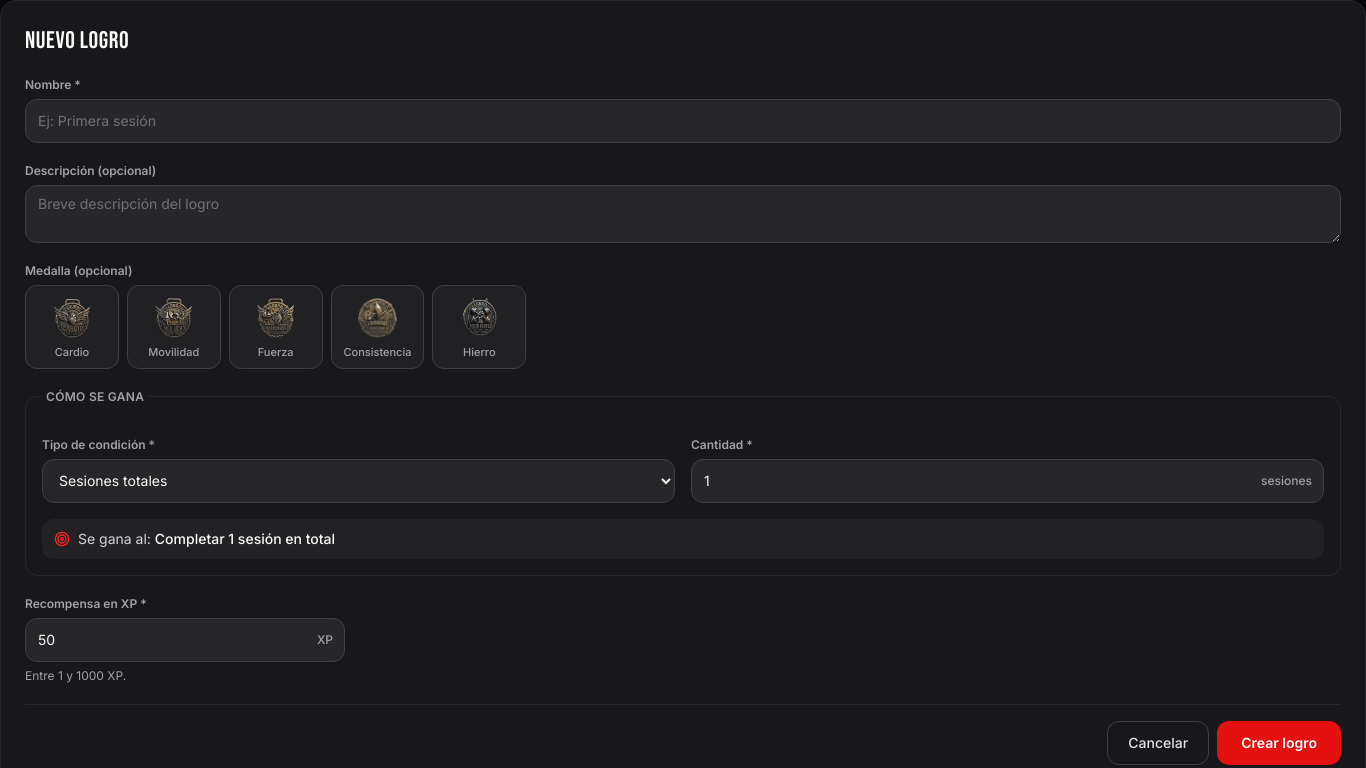
Test: AchievementForm › validation messages › explains an out-of-range XP reward in Spanish without leaking the field key
Type "Logro" into the field labelled "Nombre *" at (683,121), box [25,99,1341,143]
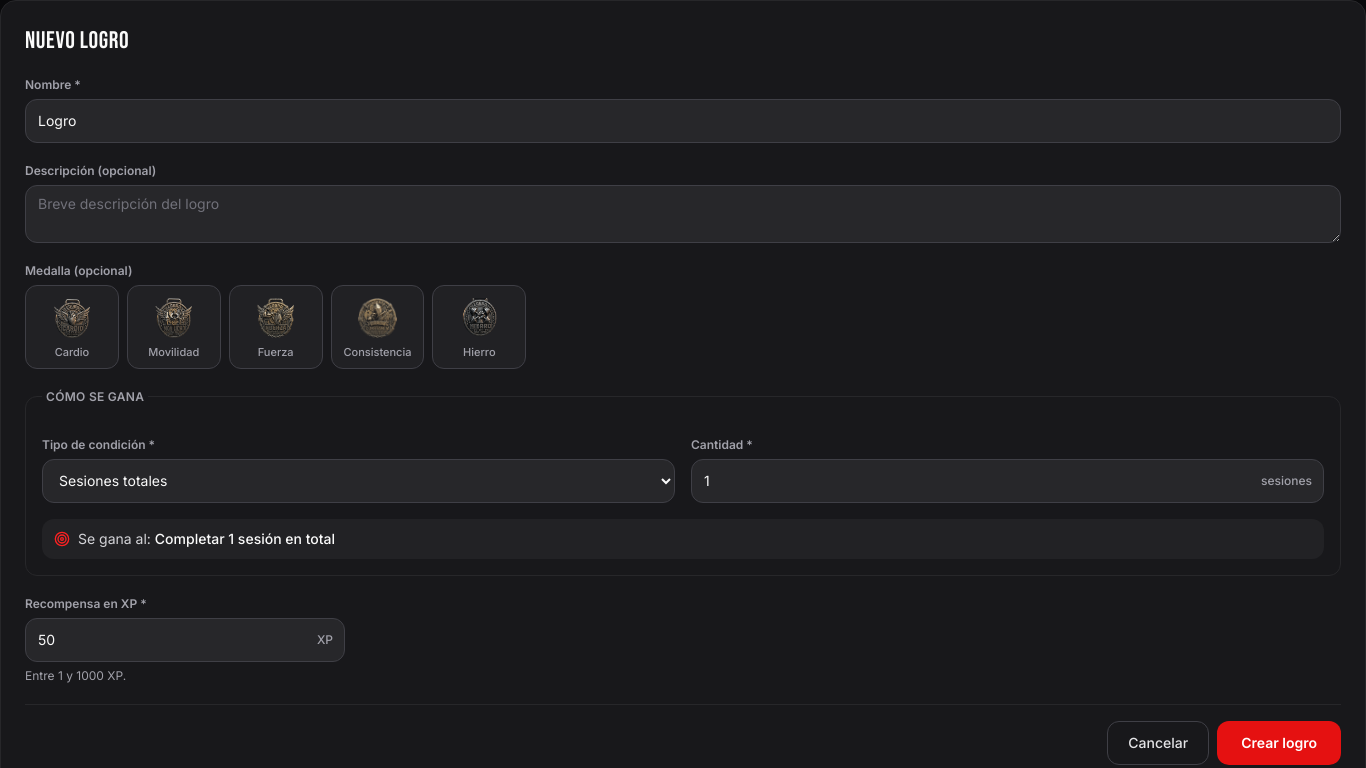
Replace the text in the number field labelled "Recompensa en XP *" with "1500" at (185,640), box [25,618,345,662]
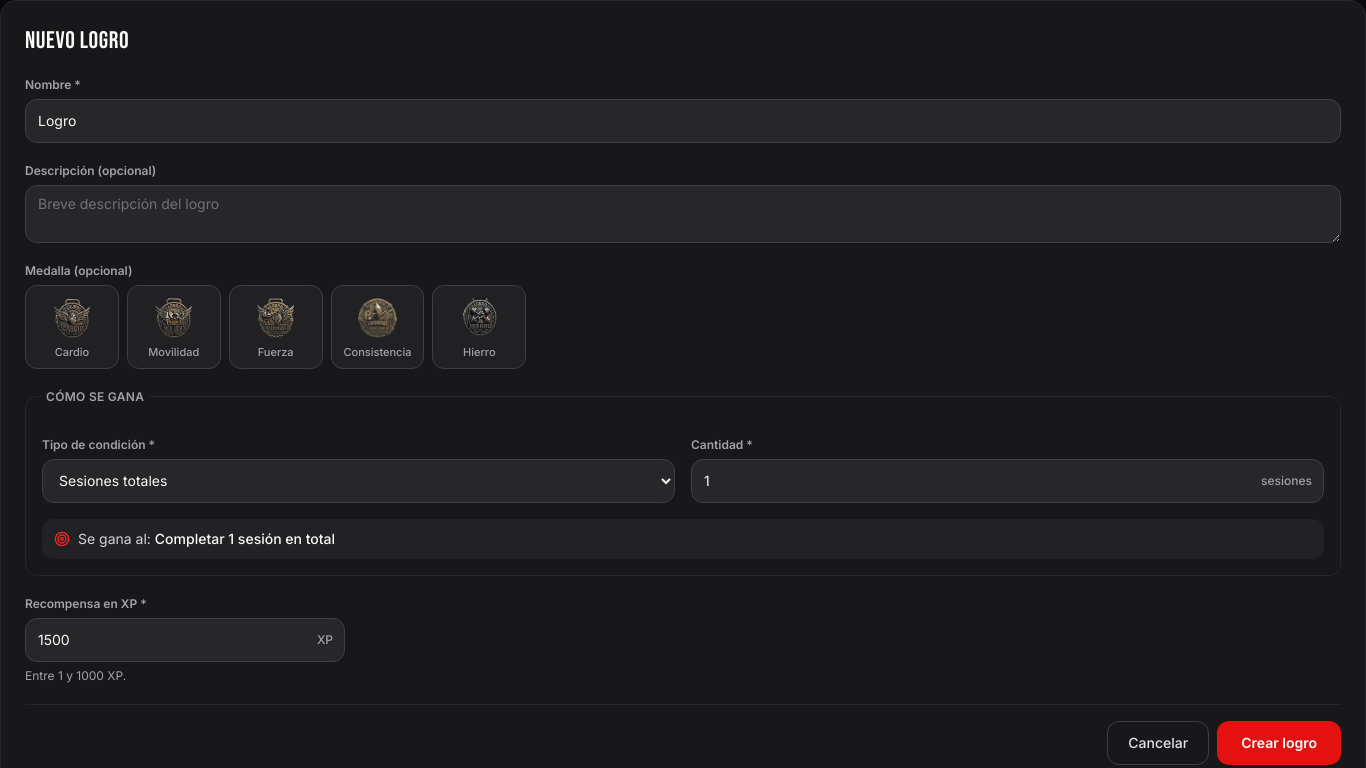
Click the button "Crear logro" at (1279,743), box [1217,721,1341,765]
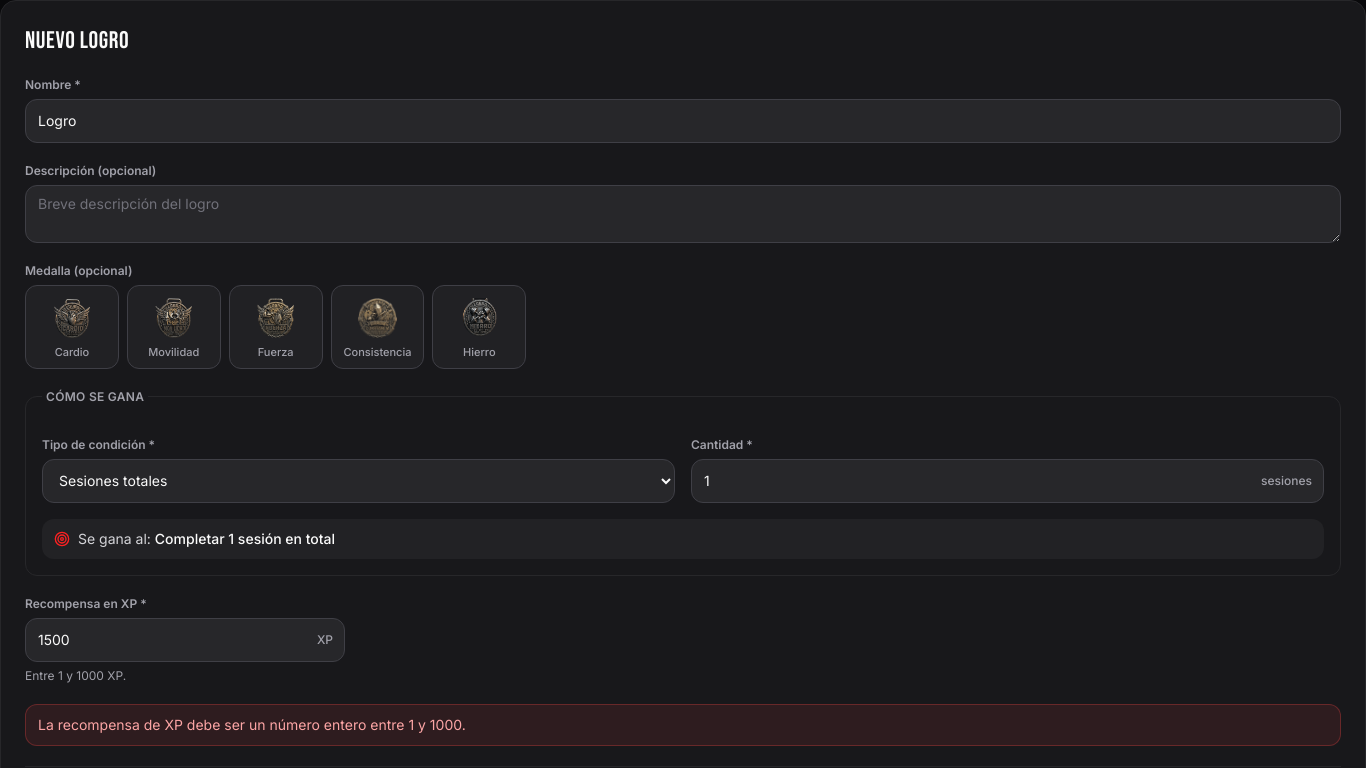
Expected: the message does not show "xp_reward", [25,704,1341,746]
Expected: the message reads "La recompensa de XP debe ser un número entero entre 1 y 1000.", [38,716,466,733]
